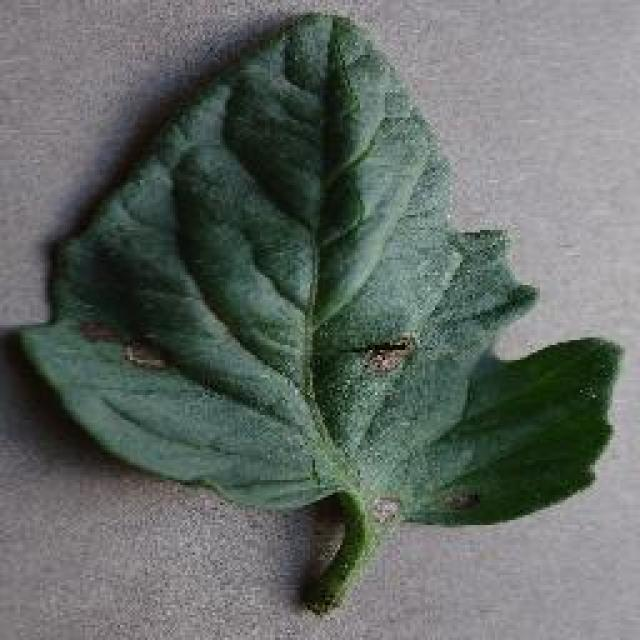Tomato_Early_Blight: (34, 217, 579, 525)
